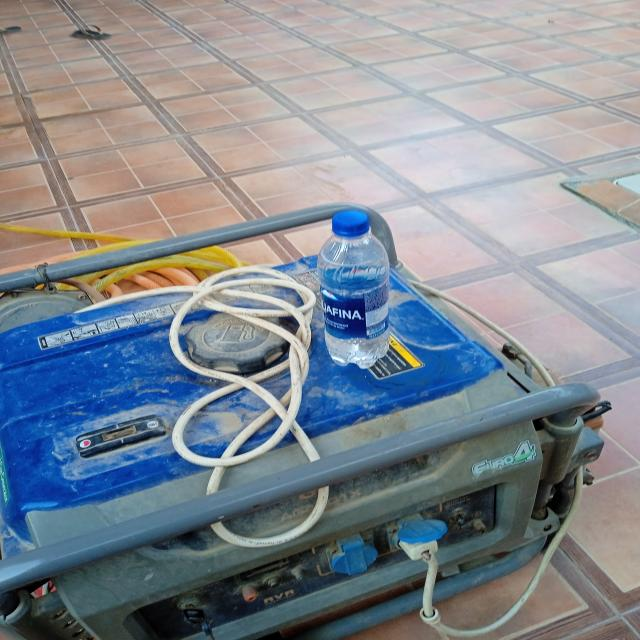Plastic: (324, 210, 394, 368)
